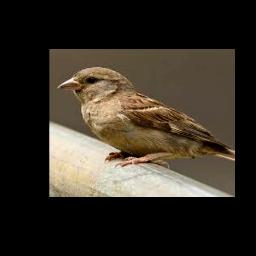Sparrow: (57, 66, 235, 167)
